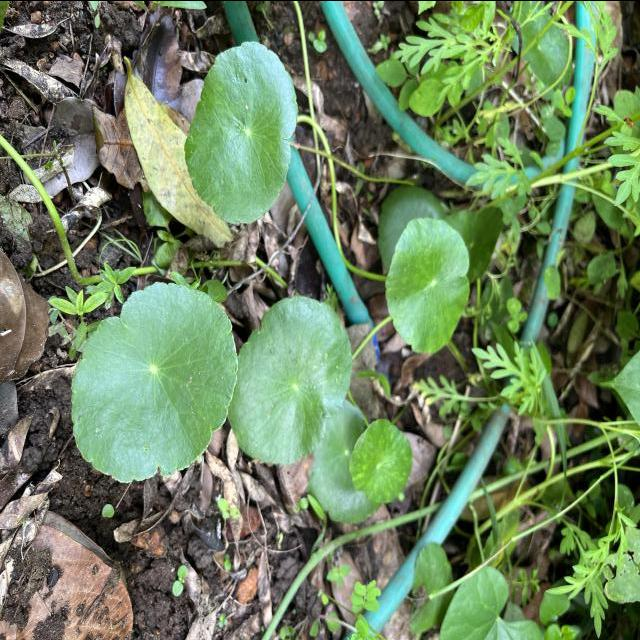Bacopa monnieri: (70, 278, 242, 486), (224, 293, 354, 467), (182, 38, 300, 224), (383, 215, 472, 355), (348, 416, 413, 504)
